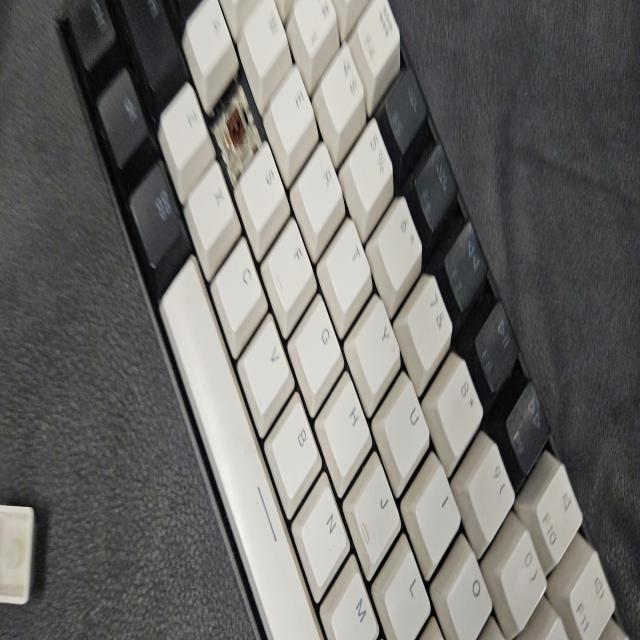C: (225, 103, 248, 144)
